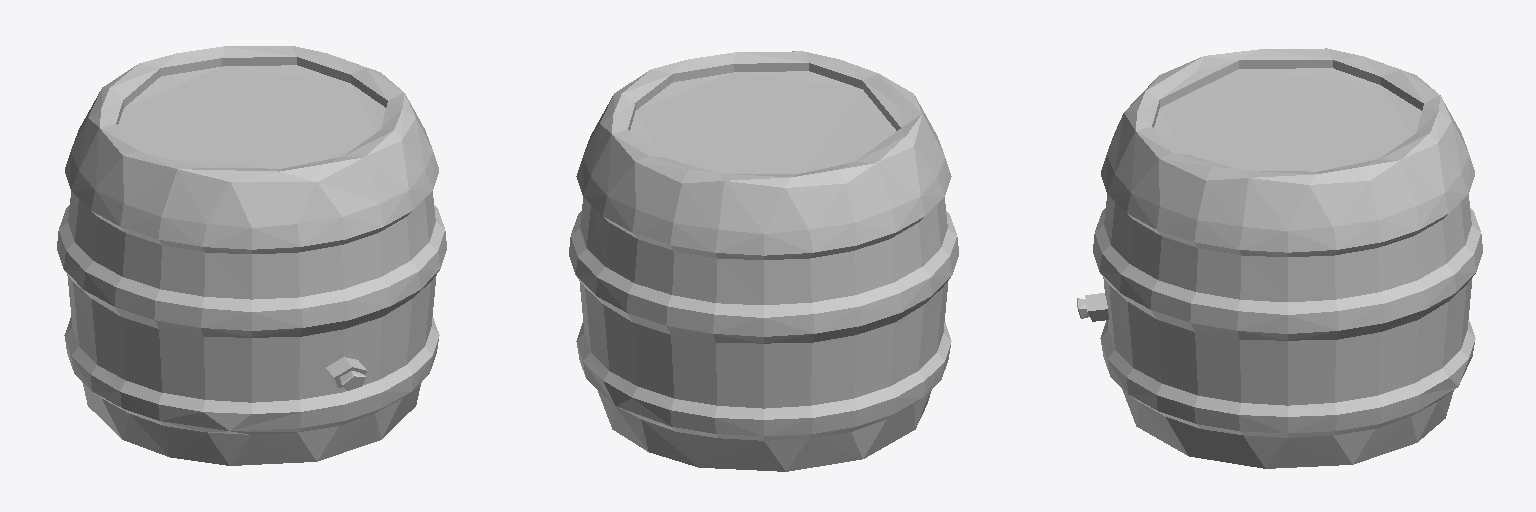
Rendered from kursi3.obj.
3 views of the same model, side by side, from view 1: azimuth 30°, elevation 25°; view 2: azimuth 150°, elevation 25°; view 3: azimuth 270°, elevation 25° (orthographic).
Parts seen in each view (by area): view 1: Barrel_01_Cylinder.002; view 2: Barrel_01_Cylinder.002; view 3: Barrel_01_Cylinder.002.
Boxes of the visible parts, x1,y1,x2,y2 form: Barrel_01_Cylinder.002: [57, 46, 446, 465]; Barrel_01_Cylinder.002: [569, 51, 958, 471]; Barrel_01_Cylinder.002: [1077, 48, 1482, 468].
Size of the model in its own units: 2.62 by 2.15 by 2.74.